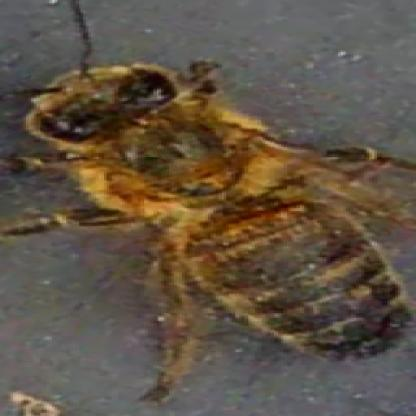bee: (26, 65, 408, 365)
